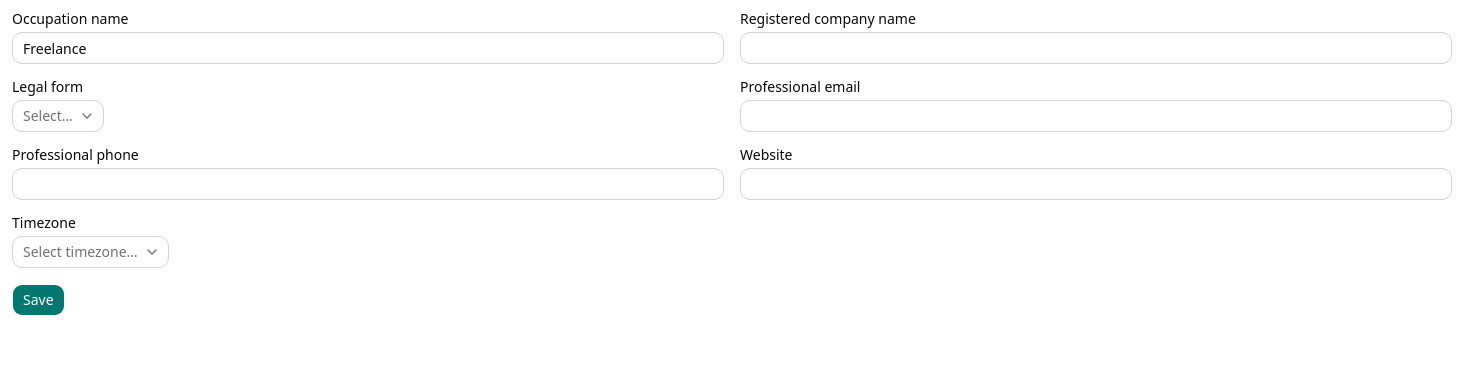
OccupationInfoForm › shows 'Saved.' after a successful save
The width and height of the screenshot is (1464, 368).
Step 1. Click the button "Save" → [38, 300], box x1=12 y1=284 x2=65 y2=316
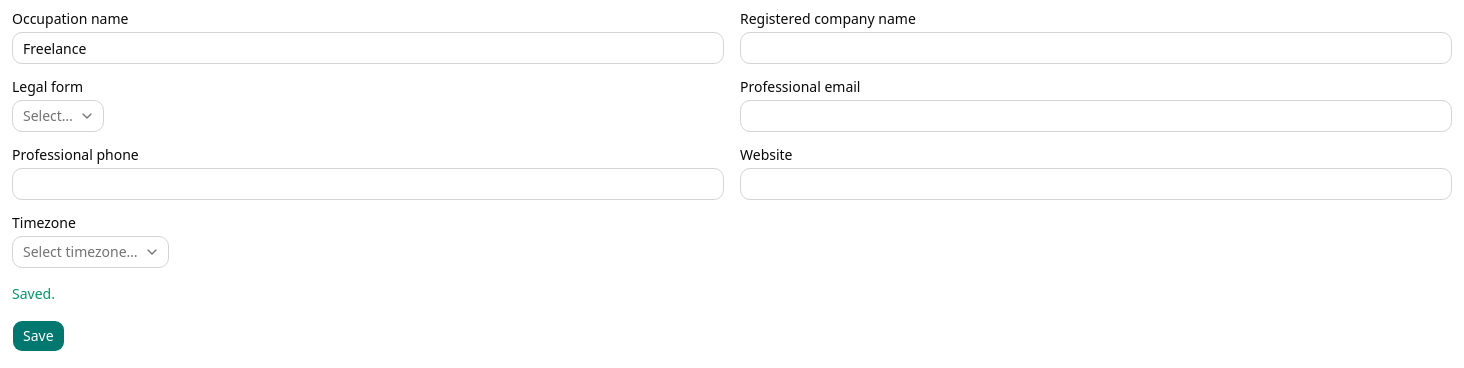
Expected: the text "Saved." is shown, x1=12 y1=284 x2=55 y2=303
